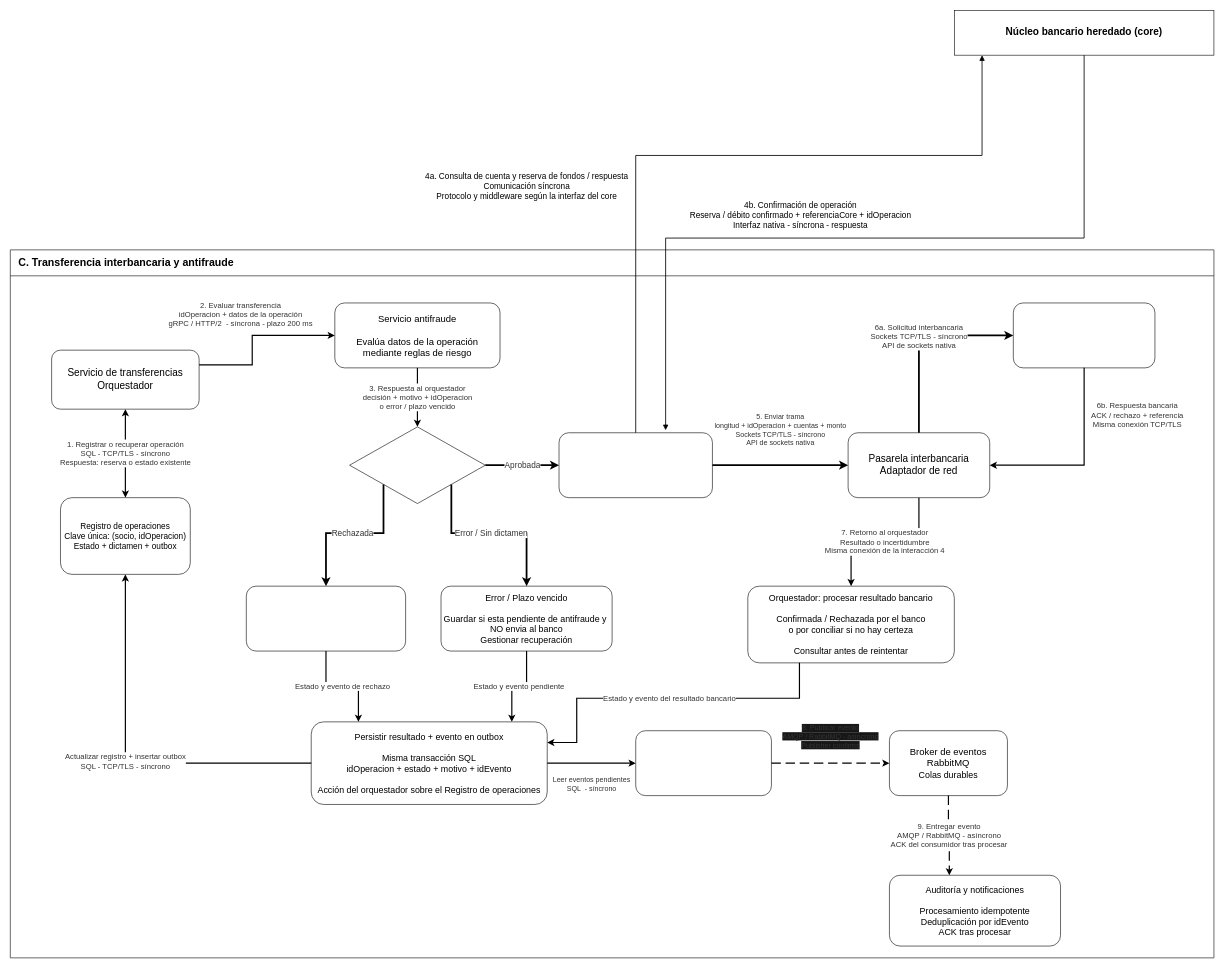
The diagram is 1224 pixels wide and 968 high, and some of its shapes have lost their labels. Each missing label, with the box of its shape:
Aprobada por antifraude Guardar dictamen Continuar hacia la pasarela: (558, 432, 712, 498)
Orquestador: ¿resultado de la evaluación?: (349, 426, 485, 504)
Publicador de outbox Recupera eventos pendientes Publica y gestiona reintentos: (635, 730, 771, 796)
Rechazada por antifraude Guardar rechazo y motivo NO envia al banco: (246, 586, 406, 651)
Red interbancaria / banco destinatario: (1013, 302, 1155, 368)
